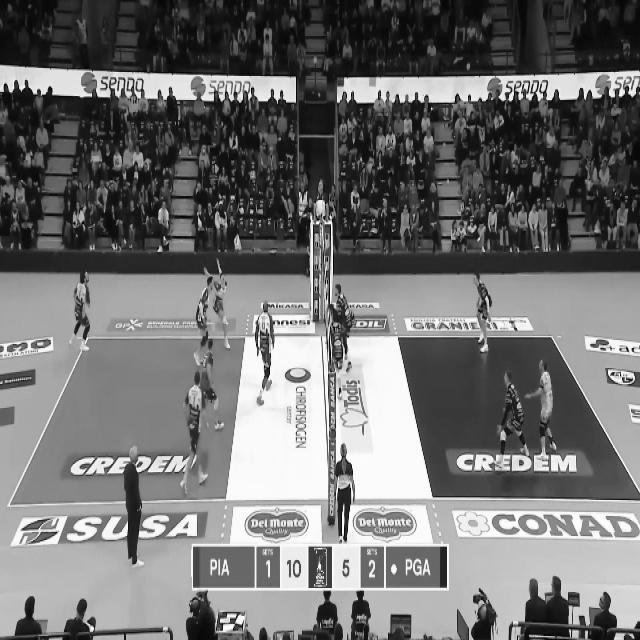volleyball court: (7, 334, 640, 502)
